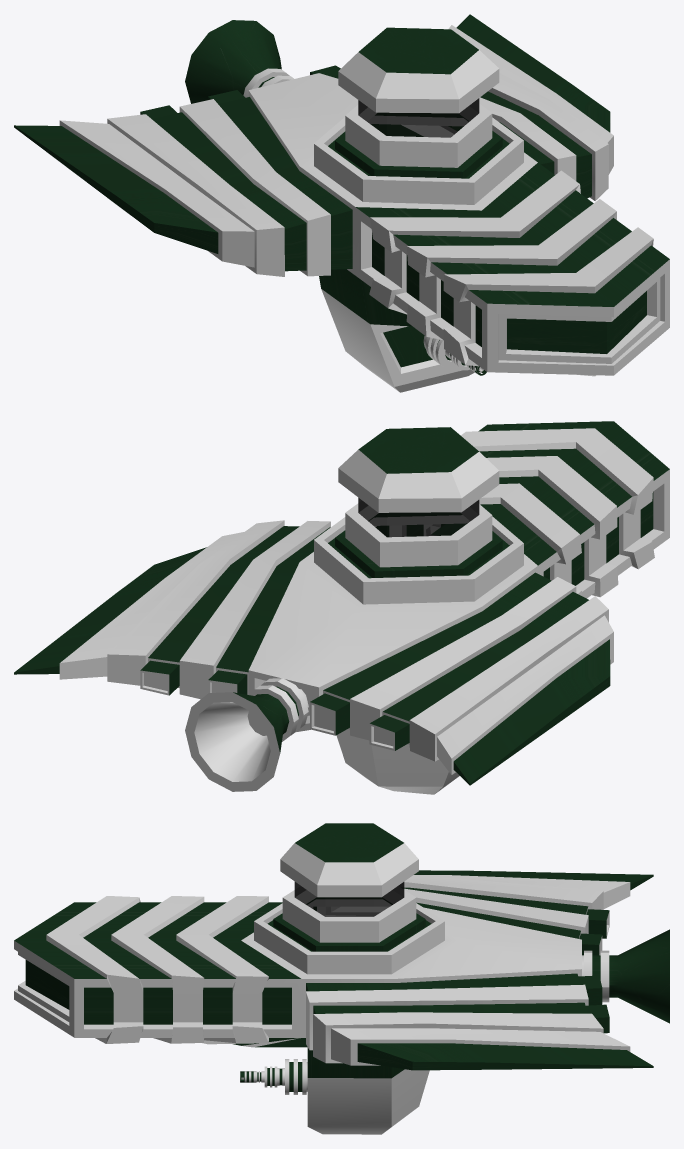
The model's file is DDA.fbx.
3 renders of one model, top to bottom at view 1: azimuth 30°, elevation 25°; view 2: azimuth 150°, elevation 25°; view 3: azimuth 270°, elevation 25°, orthographic. The views are drawn at different scales.
Visible parts, largest first — view 1: DDA; view 2: DDA; view 3: DDA.
Part boxes in pixels (<box>): DDA: <box>14,14,669,392</box>; DDA: <box>14,421,669,794</box>; DDA: <box>14,823,669,1134</box>.
Bounding box in the file's own units: 6.01 × 4.06 × 8.7.
